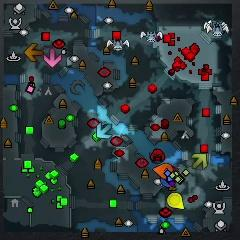p1: (159, 177, 173, 187)
p3: (168, 166, 177, 188)
p4: (168, 193, 185, 210)
p5: (153, 163, 174, 179)
x1: (44, 49, 62, 68)
x2: (192, 153, 207, 169)
x3: (96, 122, 112, 139)
x5: (24, 42, 43, 61)
